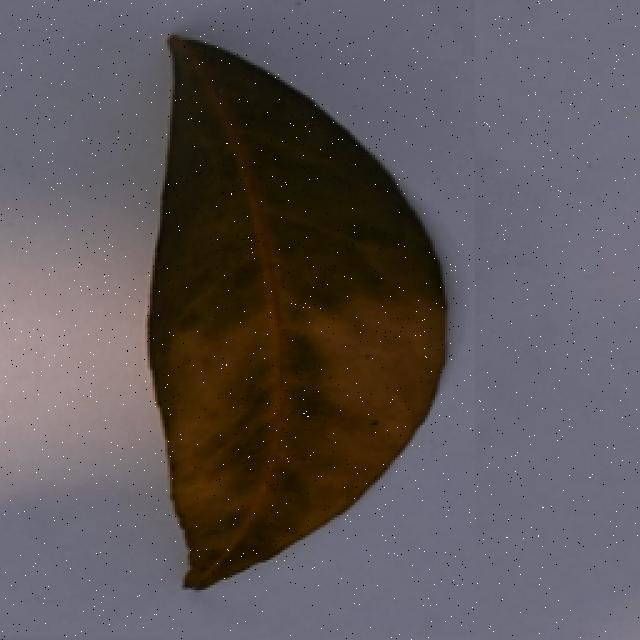greening: (122, 32, 450, 604)
